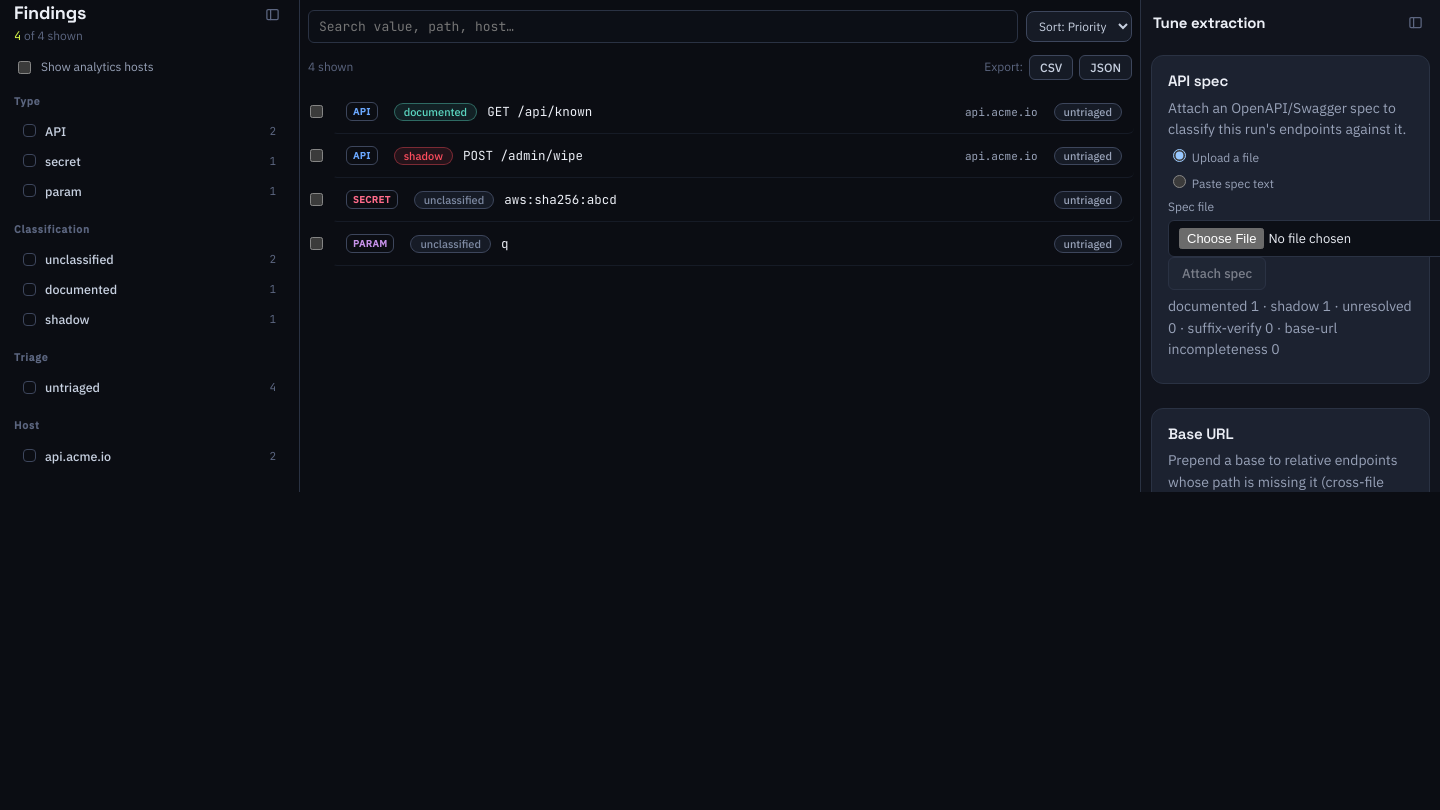
Test: FindingsPage › opens a drawer with the finding's detail on row click and closes it
Click the text "GET /api/known" at (540, 112), box 487,103 -> 592,120
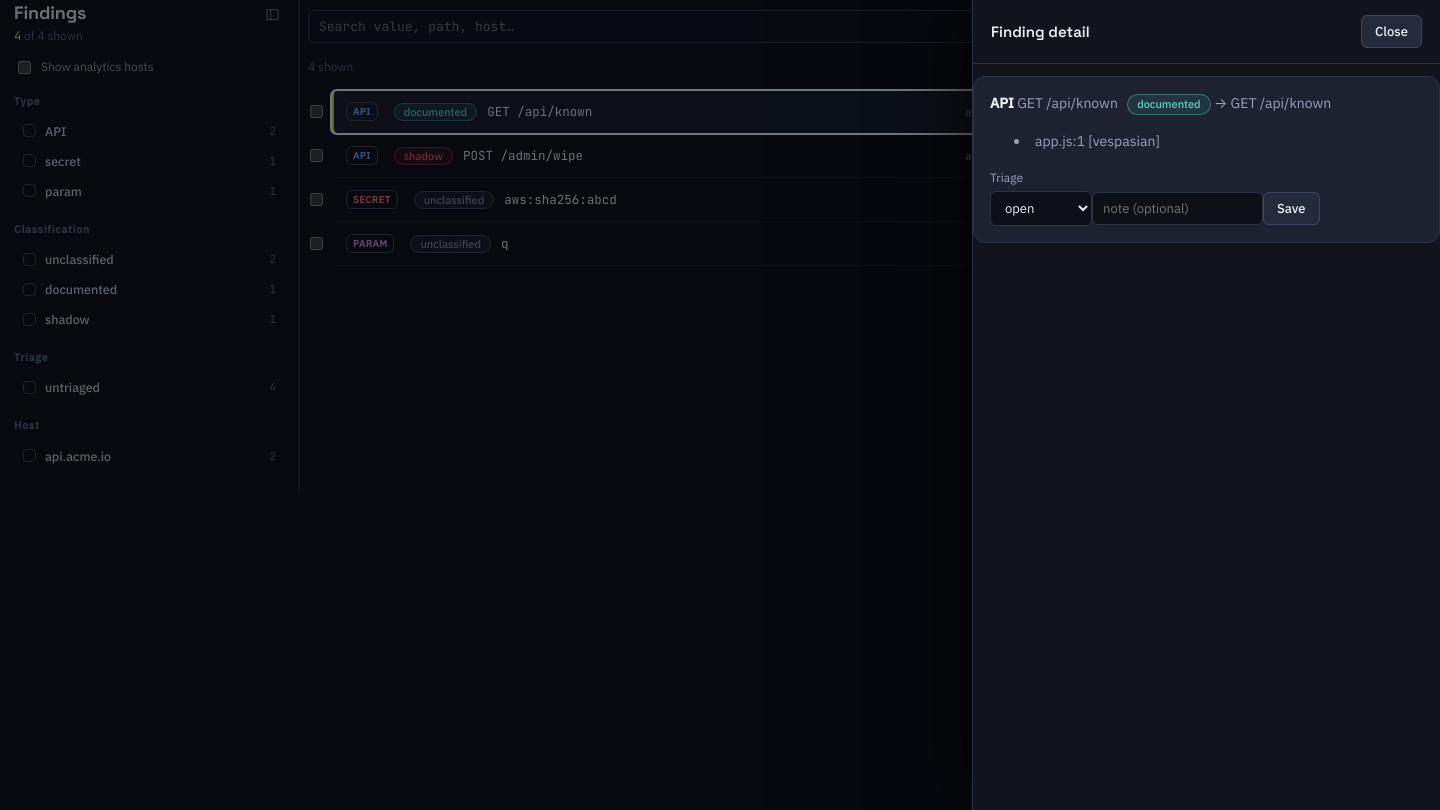
Expected: the text "documented" is shown, 1127,94 -> 1211,115
Click the button "Close" at (1392, 32), box 1361,15 -> 1422,48
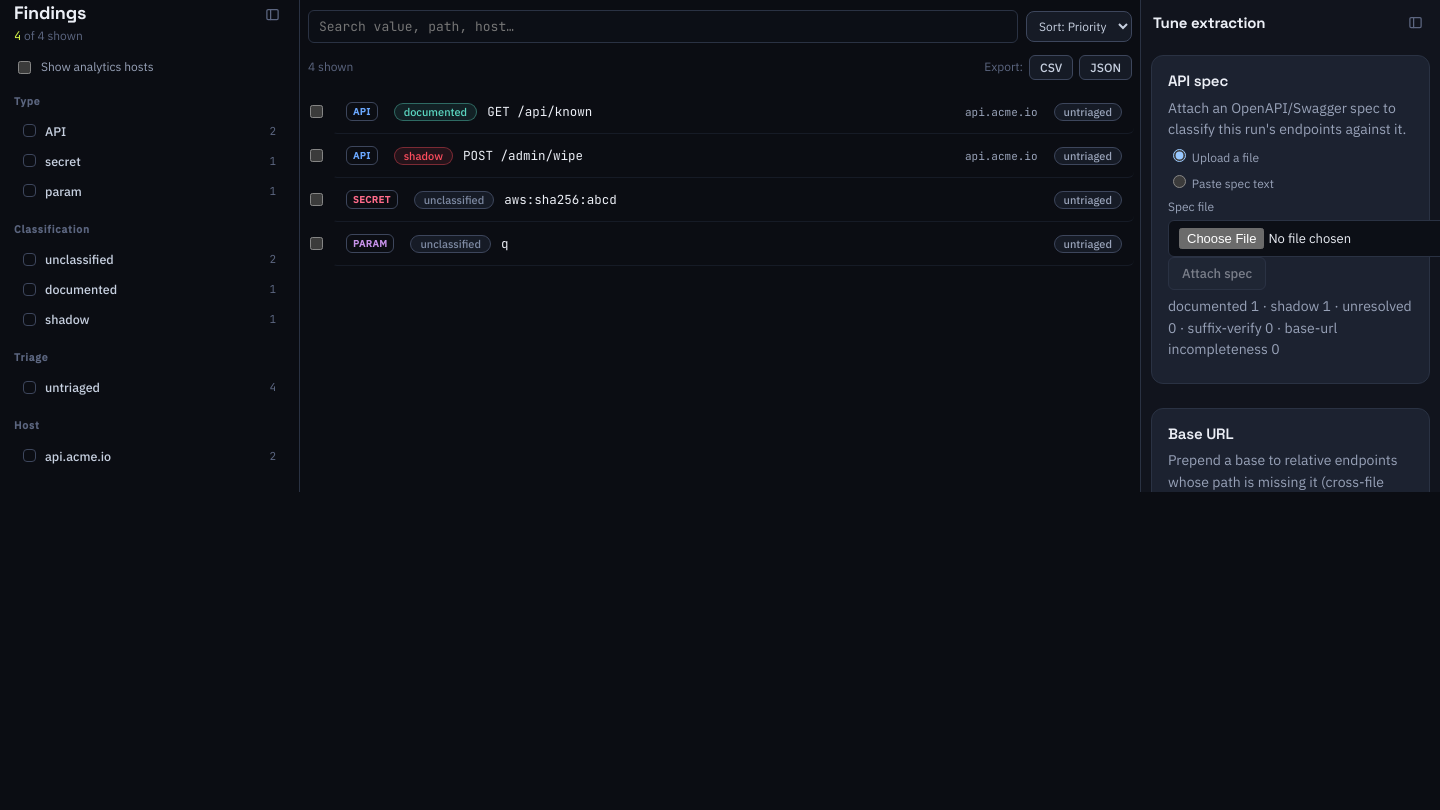
Expected: the dialog is gone
